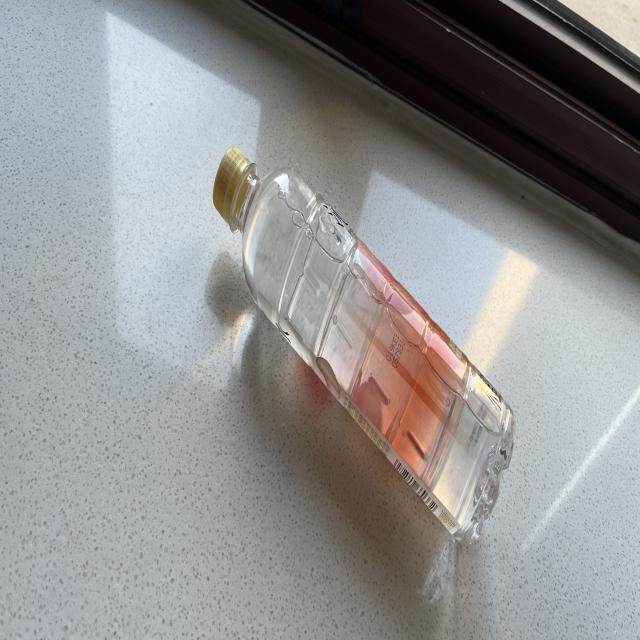high: (213, 148, 515, 543)
